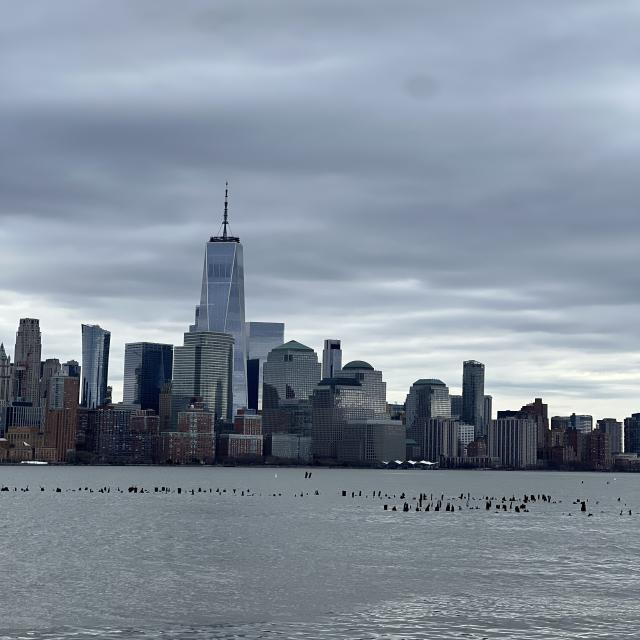WTC: (197, 180, 247, 332)
